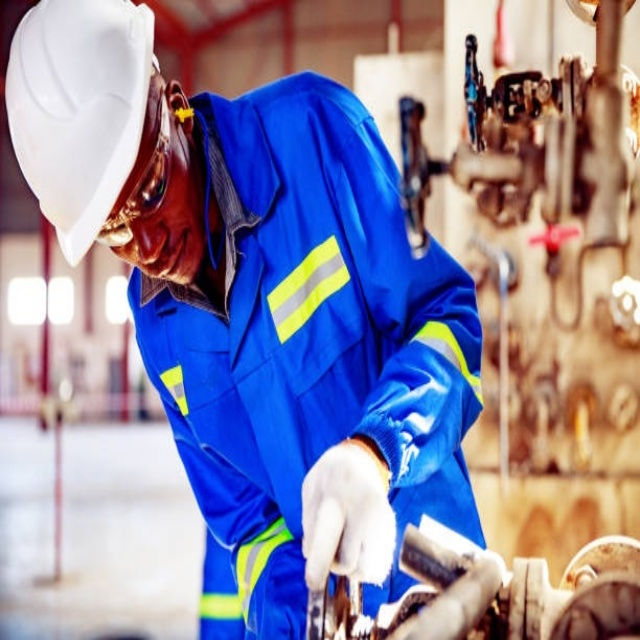Gafas: (98, 75, 177, 249)
Guantes: (299, 439, 398, 594)
Sin_mascara: (152, 226, 192, 287)
